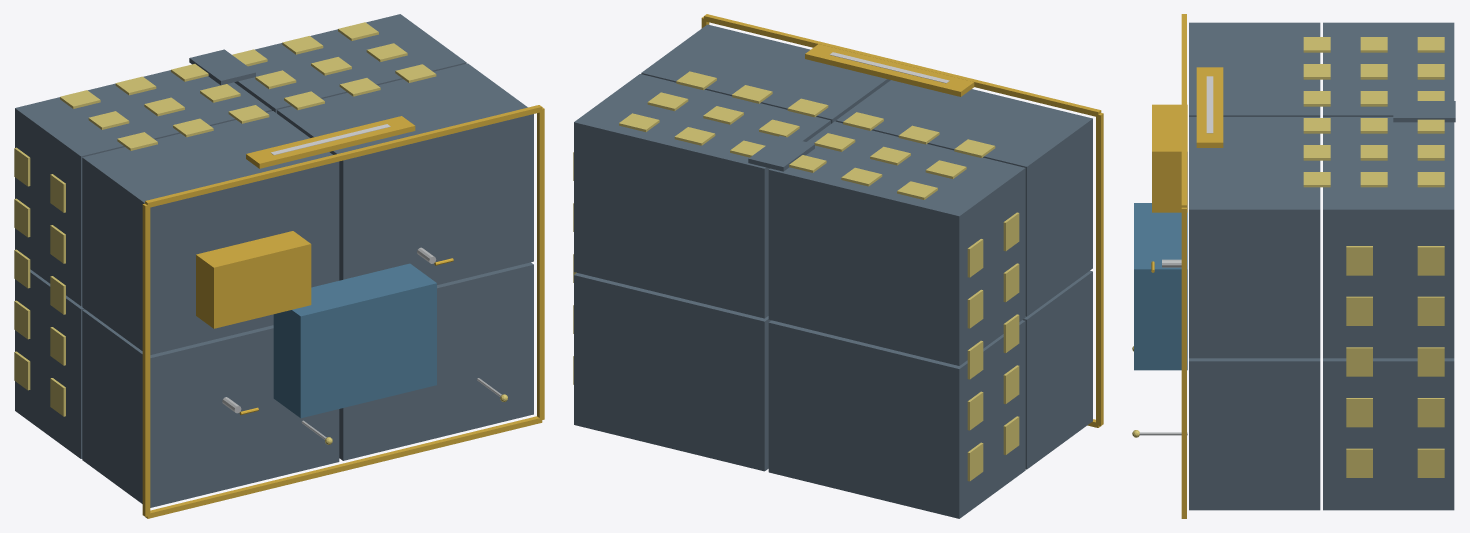
The model's file is building-mining-hq.glb.
The picture shows the model from 3 angles, left to right: view 1: azimuth 30°, elevation 25°; view 2: azimuth 150°, elevation 25°; view 3: azimuth 270°, elevation 25°; orthographic projection.
Visible parts, largest first — view 1: world; view 2: world; view 3: world.
Part boxes in pixels (bbox=[...]): world: bbox=[14, 14, 544, 518]; world: bbox=[573, 14, 1103, 518]; world: bbox=[1132, 14, 1455, 518].
Size of the model in its own units: 20.5 by 15.74 by 14.48.
